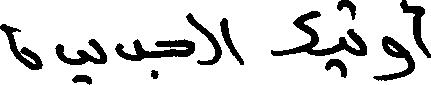X: (376, 0, 412, 84), (157, 8, 192, 82), (273, 6, 316, 60), (0, 19, 40, 74), (194, 14, 218, 69), (57, 39, 85, 84), (414, 1, 430, 73), (222, 13, 242, 69), (348, 0, 365, 60), (118, 34, 143, 65), (91, 34, 106, 84), (338, 0, 346, 82)
